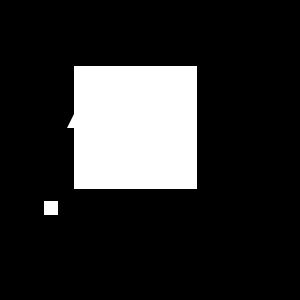circle: (74, 66, 197, 189), (44, 201, 58, 215)
triangle: (115, 119, 168, 172), (67, 83, 112, 128), (103, 81, 144, 122)
